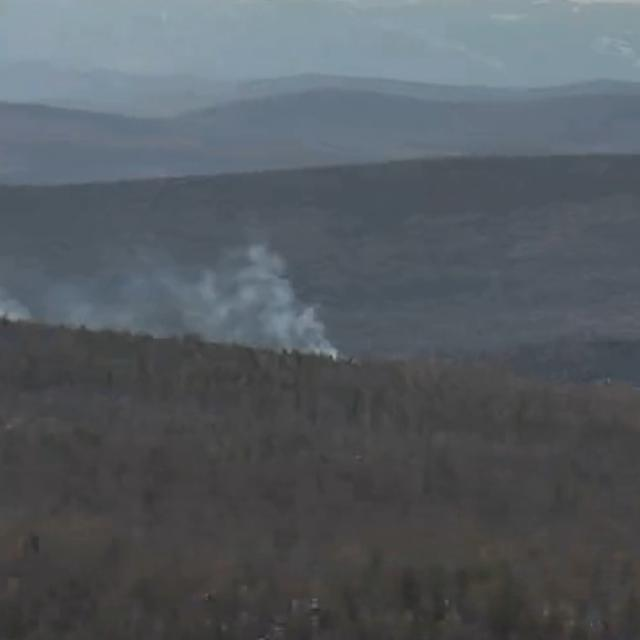Smoke: (0, 240, 338, 362)
